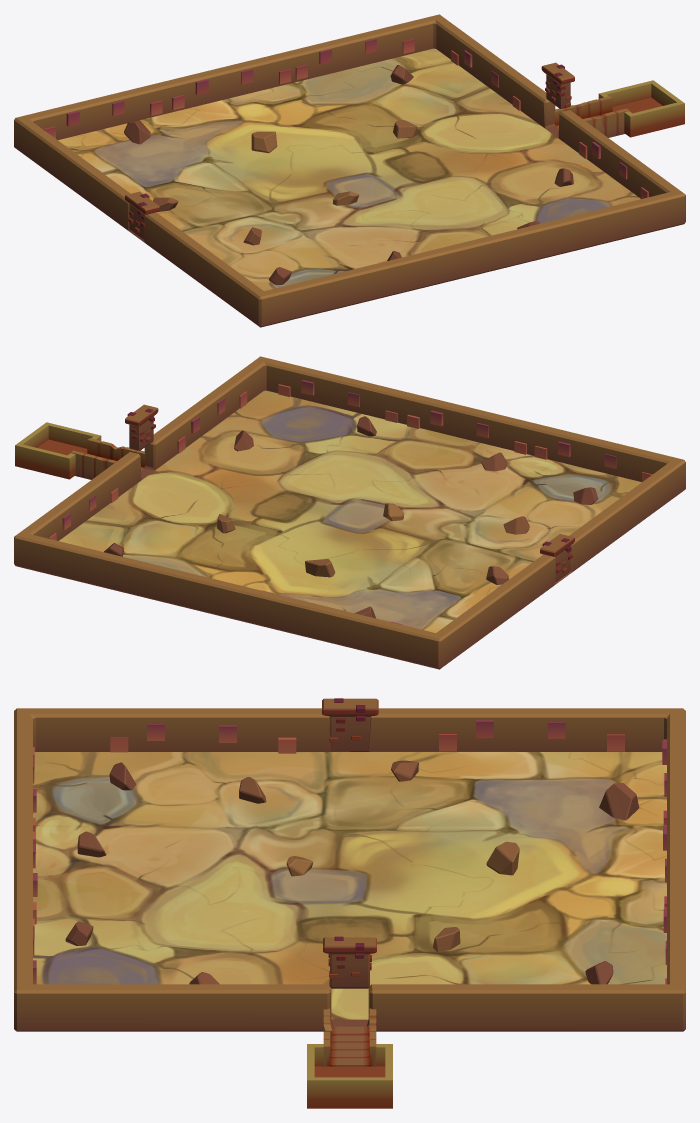
The model's file is Поле .fbx.
3 views of the same model, one above another, from view 1: azimuth 30°, elevation 25°; view 2: azimuth 150°, elevation 25°; view 3: azimuth 270°, elevation 25° (orthographic). The views are drawn at different scales.
Parts seen in each view (by area): view 1: Cube.057, Cube.044, Cube.069, Cube.049, Cube.047, Cube.045, Cube.046, Cube.048; view 2: Cube.057, Cube.044, Cube.069, Cube.049, Cube.047, Cube.045, Cube.046, Cube.048; view 3: Cube.057, Cube.044, Cube.069, Cube.049, Cube.047, Cube.045, Cube.048, Cube.046.
Boxes of the visible parts, bbox=[...] form: Cube.057: bbox=[58, 48, 640, 290]; Cube.044: bbox=[14, 14, 685, 327]; Cube.069: bbox=[124, 65, 573, 284]; Cube.049: bbox=[598, 80, 684, 137]; Cube.047: bbox=[43, 39, 648, 198]; Cube.045: bbox=[554, 96, 629, 137]; Cube.046: bbox=[541, 62, 574, 108]; Cube.048: bbox=[125, 191, 159, 240]; Cube.057: bbox=[59, 390, 641, 632]; Cube.044: bbox=[14, 356, 685, 669]; Cube.069: bbox=[104, 416, 597, 618]; Cube.049: bbox=[15, 422, 101, 479]; Cube.047: bbox=[49, 380, 652, 624]; Cube.045: bbox=[70, 438, 145, 479]; Cube.046: bbox=[125, 404, 158, 450]; Cube.048: bbox=[540, 534, 574, 582]; Cube.057: bbox=[33, 752, 666, 1019]; Cube.044: bbox=[14, 708, 685, 1031]; Cube.069: bbox=[65, 760, 639, 984]; Cube.049: bbox=[307, 1044, 392, 1108]; Cube.047: bbox=[33, 720, 666, 984]; Cube.045: bbox=[323, 1008, 376, 1066]; Cube.048: bbox=[322, 698, 378, 751]; Cube.046: bbox=[323, 936, 376, 988].
Size of the model in its own units: 2545 by 341 by 2036.
